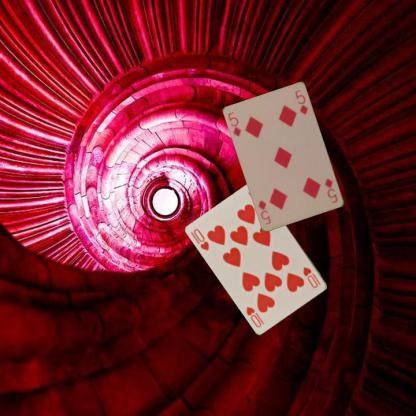10h: (300, 264, 322, 290), (192, 226, 210, 252)
5d: (225, 109, 243, 138), (322, 176, 339, 204)
